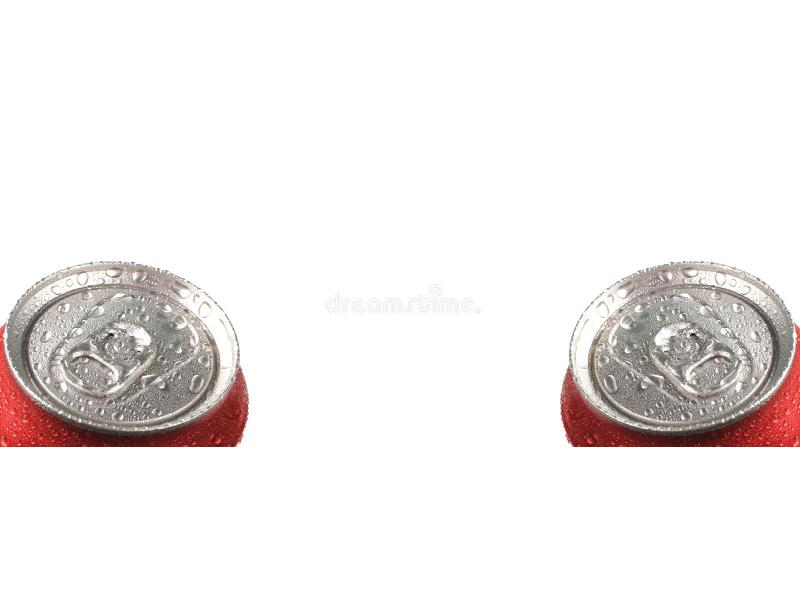can: (0, 251, 260, 444), (555, 259, 799, 448)
